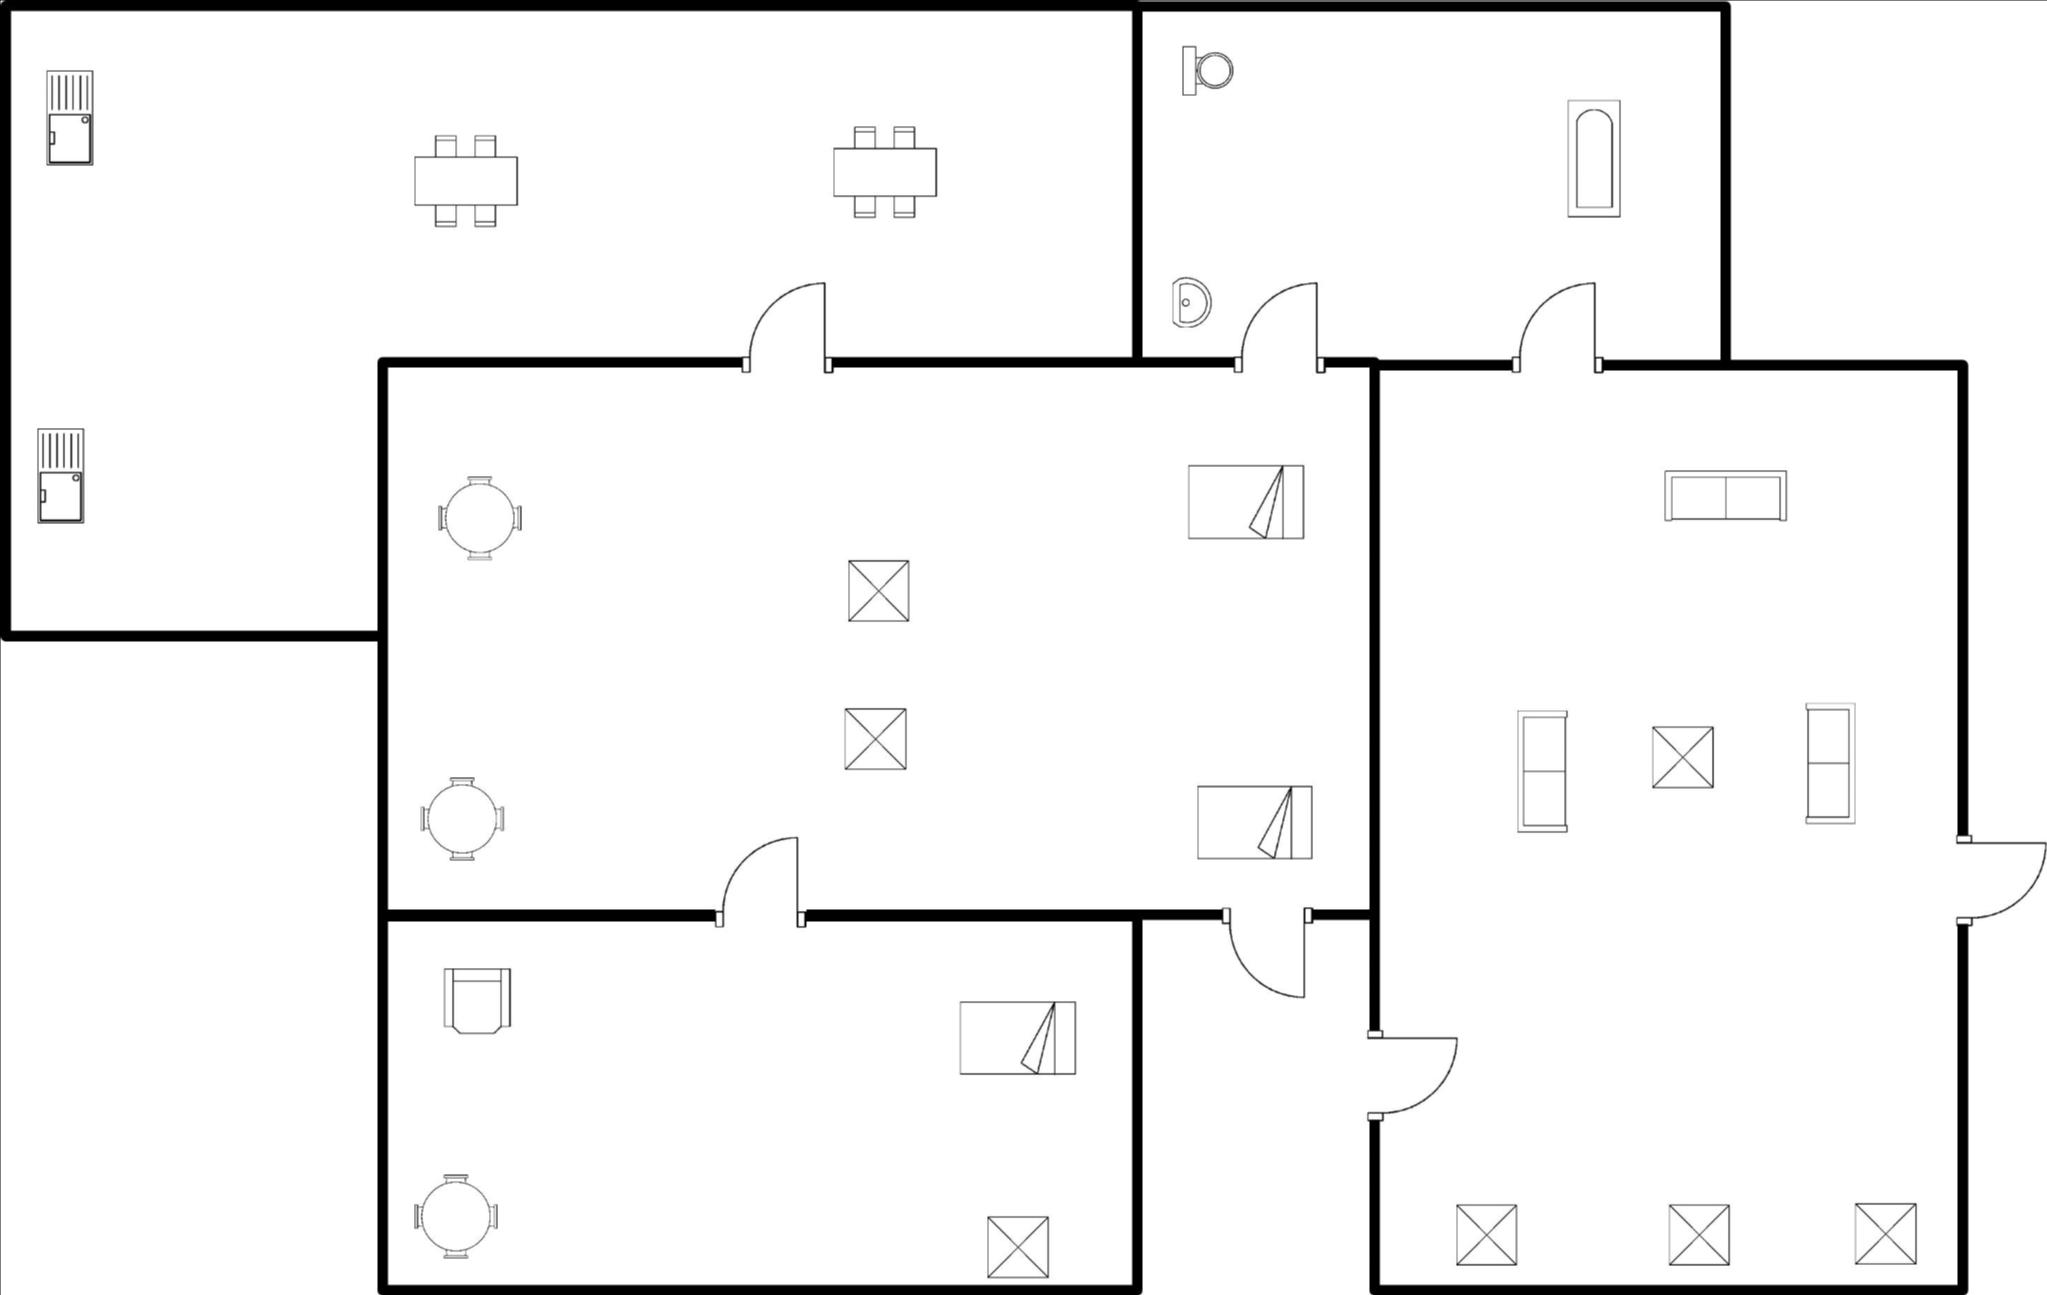bed: (1174, 451, 1316, 548), (1186, 773, 1325, 871), (836, 552, 919, 633), (979, 1205, 1058, 1288), (833, 698, 915, 776)
dining_table: (819, 116, 955, 233), (401, 122, 527, 242)
round_table: (424, 464, 536, 570), (410, 762, 518, 871), (401, 1164, 510, 1267)
sink: (37, 55, 101, 176), (28, 421, 90, 534)
sofa: (1656, 454, 1798, 533), (1790, 697, 1861, 835), (1510, 701, 1577, 843)
toilet: (1168, 34, 1244, 104)
tub: (1556, 88, 1632, 230)
